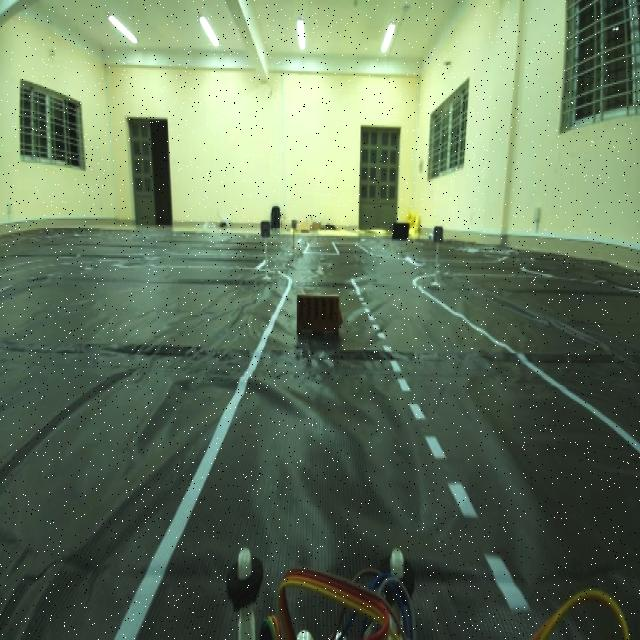roadblock: (294, 287, 348, 347)
